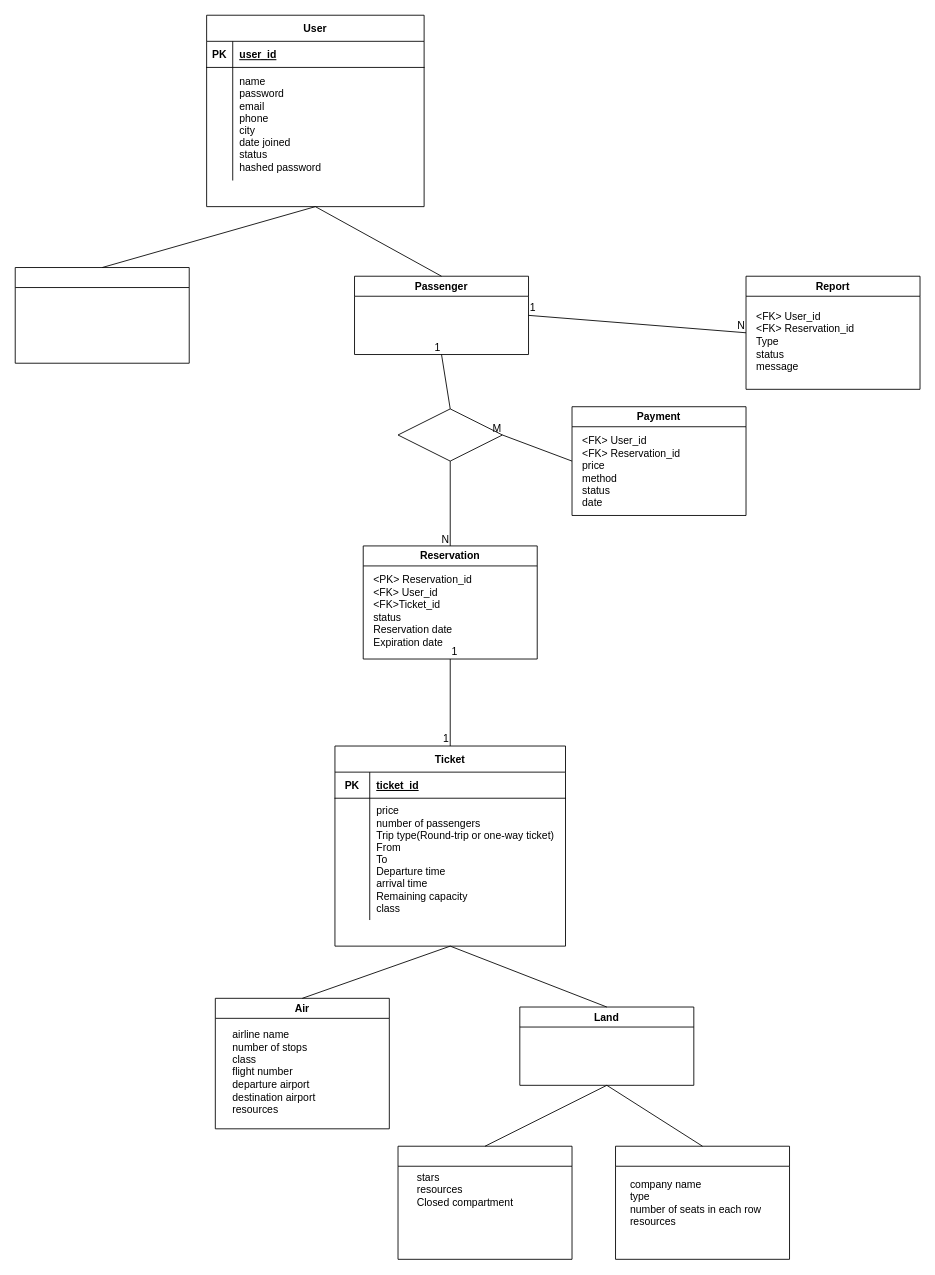
Some shapes in this 935 by 1275 pixel diagram are drawn without their labels. Here are the shapes that lost their labels. From the top down, the box of each, then its label:
(14, 267, 189, 363): Website backup
(397, 408, 502, 461): Relationship
(397, 1145, 572, 1259): Bus
(615, 1145, 790, 1259): Train
